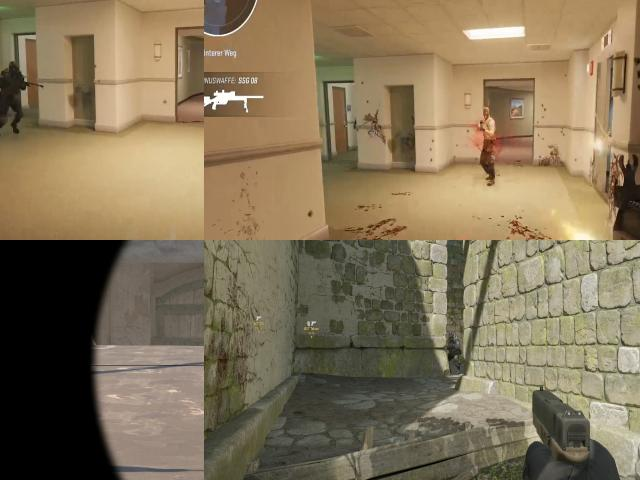CT: (0, 58, 25, 130), (444, 328, 464, 372)
CT-Head: (6, 61, 22, 80), (448, 333, 458, 342)
T: (478, 104, 498, 152)
T-Head: (481, 107, 492, 127)
